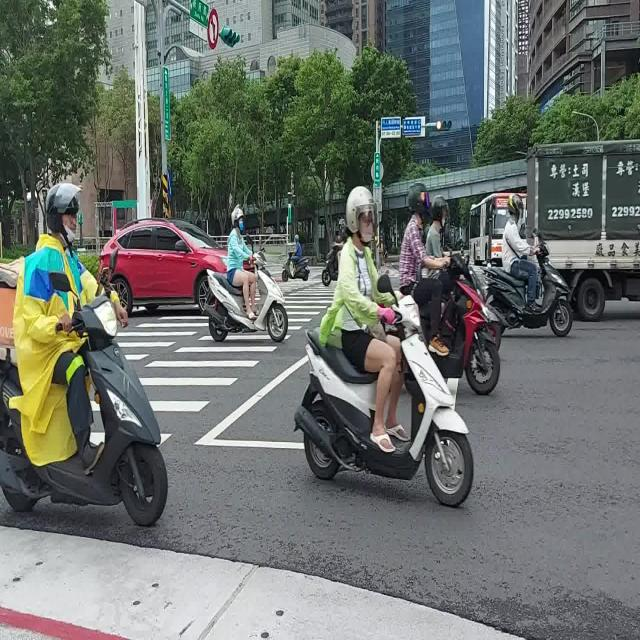bus: (469, 193, 510, 264)
car: (100, 218, 225, 311)
crosswalk: (136, 334, 279, 446), (117, 315, 209, 360), (284, 283, 336, 341), (278, 278, 321, 294)
motocycle: (295, 289, 474, 507), (0, 296, 168, 527), (435, 251, 500, 396), (485, 238, 572, 337), (204, 249, 288, 342), (321, 236, 344, 287), (281, 251, 310, 282)
trunk: (528, 140, 640, 320)
